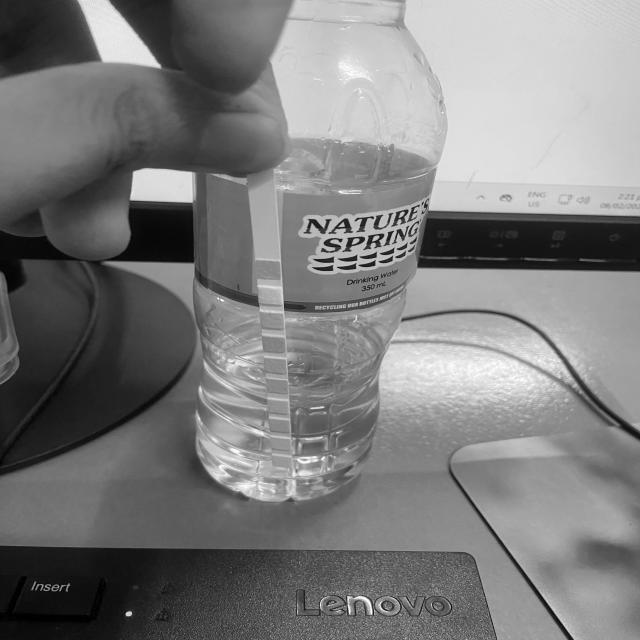Bilirubin: (260, 288, 279, 304)
Blood: (265, 358, 285, 373)
Glucose: (256, 261, 280, 279)
Ketone: (261, 312, 281, 328)
Leukocytes: (273, 456, 290, 466)
Nitrite: (271, 438, 290, 450)
Protein: (268, 400, 288, 413)
SpGravity: (263, 336, 284, 351)
Urobilinogen: (270, 419, 288, 431)
background: (0, 0, 640, 640)
pH: (267, 379, 286, 393)
strip: (247, 176, 292, 468)
